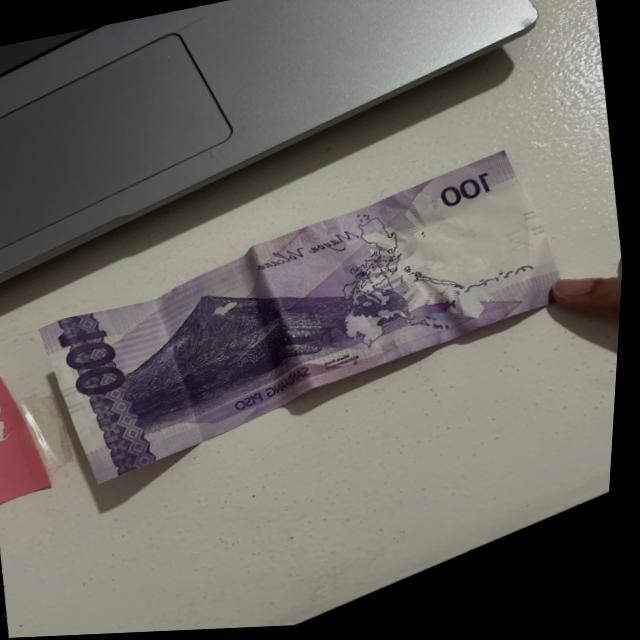100_whale: (224, 314, 363, 387)
100_whale_watermark: (402, 300, 468, 331)
value_watermark: (505, 233, 533, 259)
